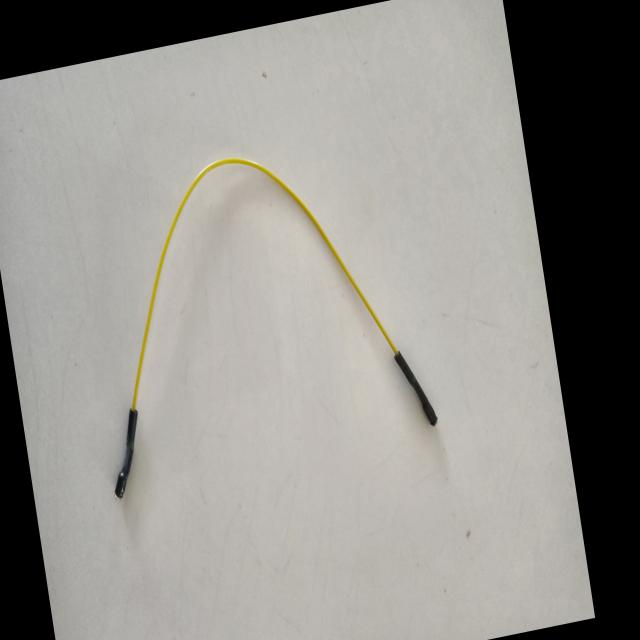BNC Cables Both Clips: (63, 109, 454, 508)
